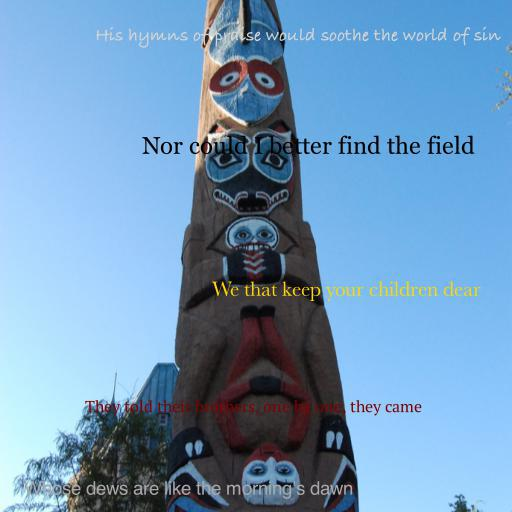Baskerville: (211, 281, 481, 302)
Bradley Hand: (95, 26, 501, 48)
Georgia: (141, 135, 475, 155)
PT Serif: (84, 400, 422, 416)
SF Pro: (23, 481, 353, 499)
